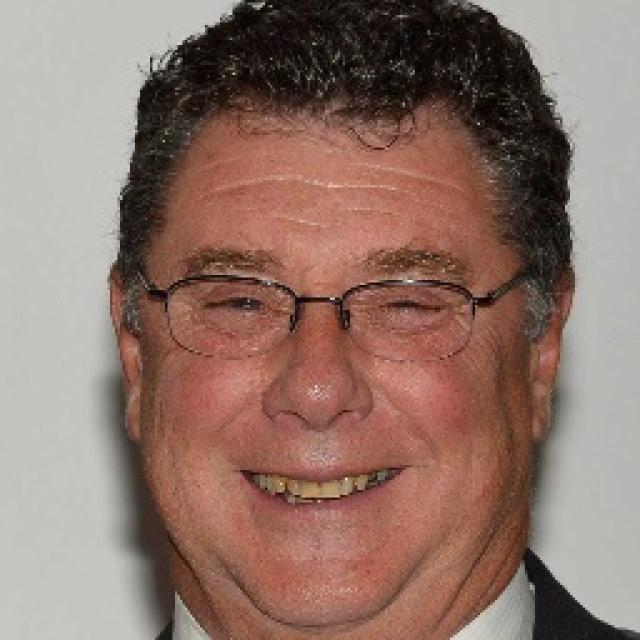earlobe: (528, 269, 575, 445), (108, 262, 146, 444)
